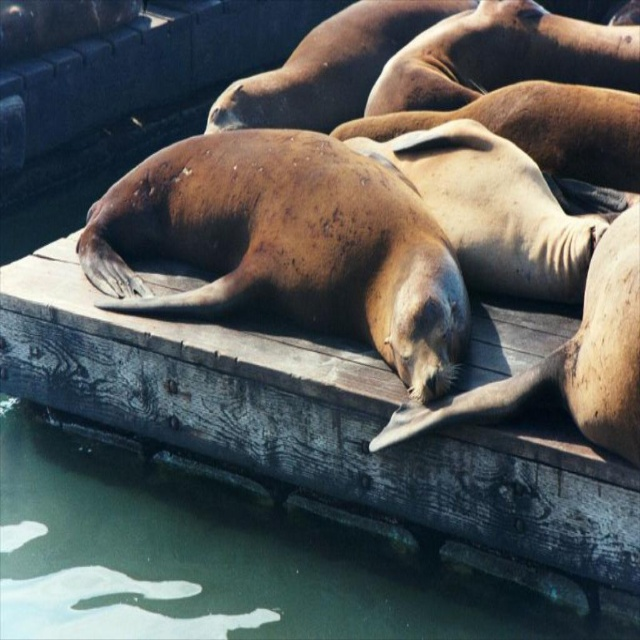Sea lion: (75, 0, 640, 453)
